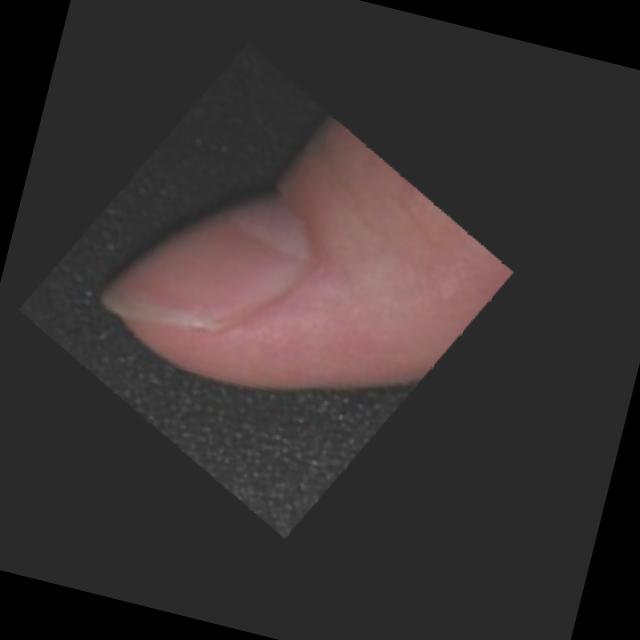Nail: (105, 195, 303, 327)
